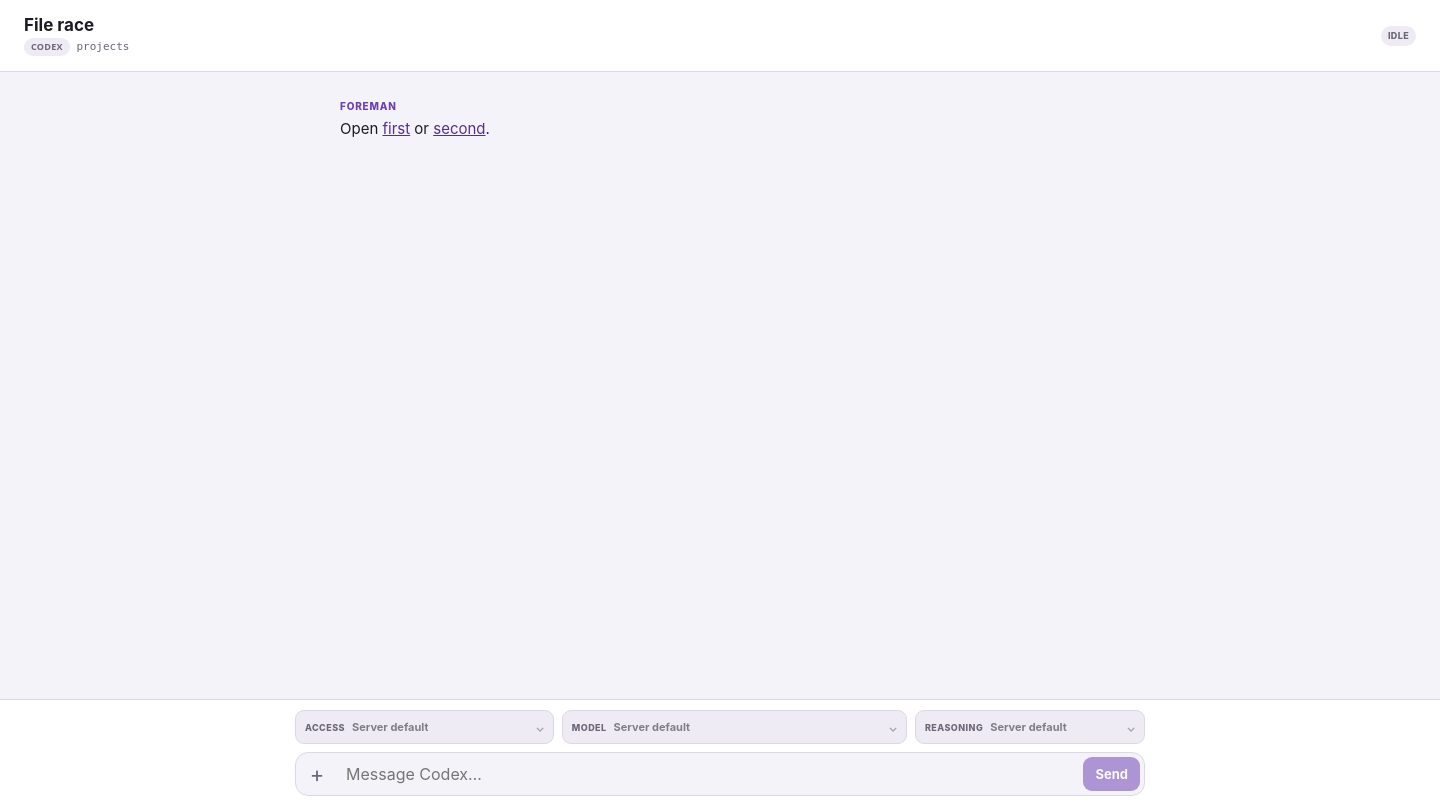
Test: assistant workspace file links › keeps the newest file when reads complete out of order
The width and height of the screenshot is (1440, 810).
Click the link "first": (396, 129) [382,119,410,138]
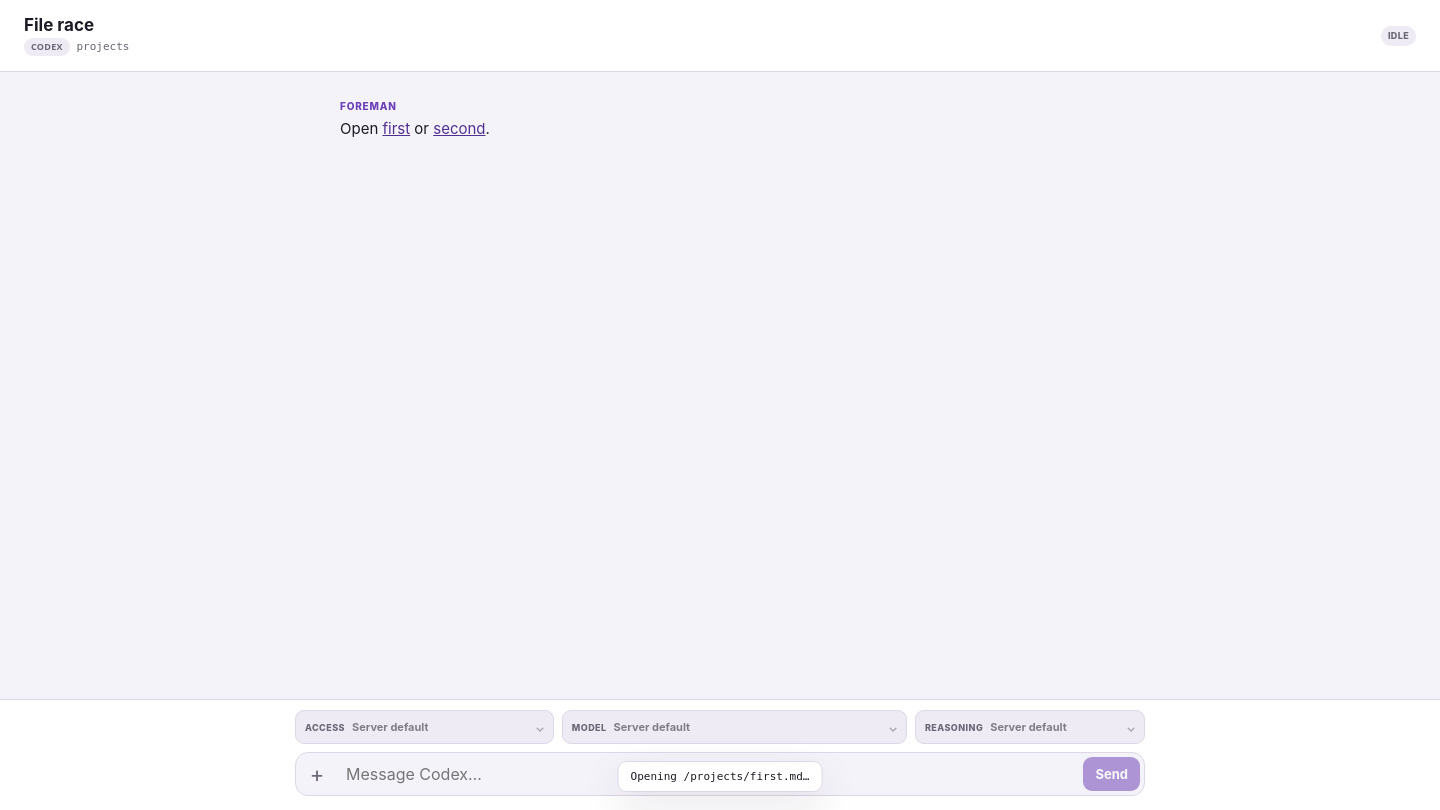
Click the link "second": (459, 129) [433,119,486,138]
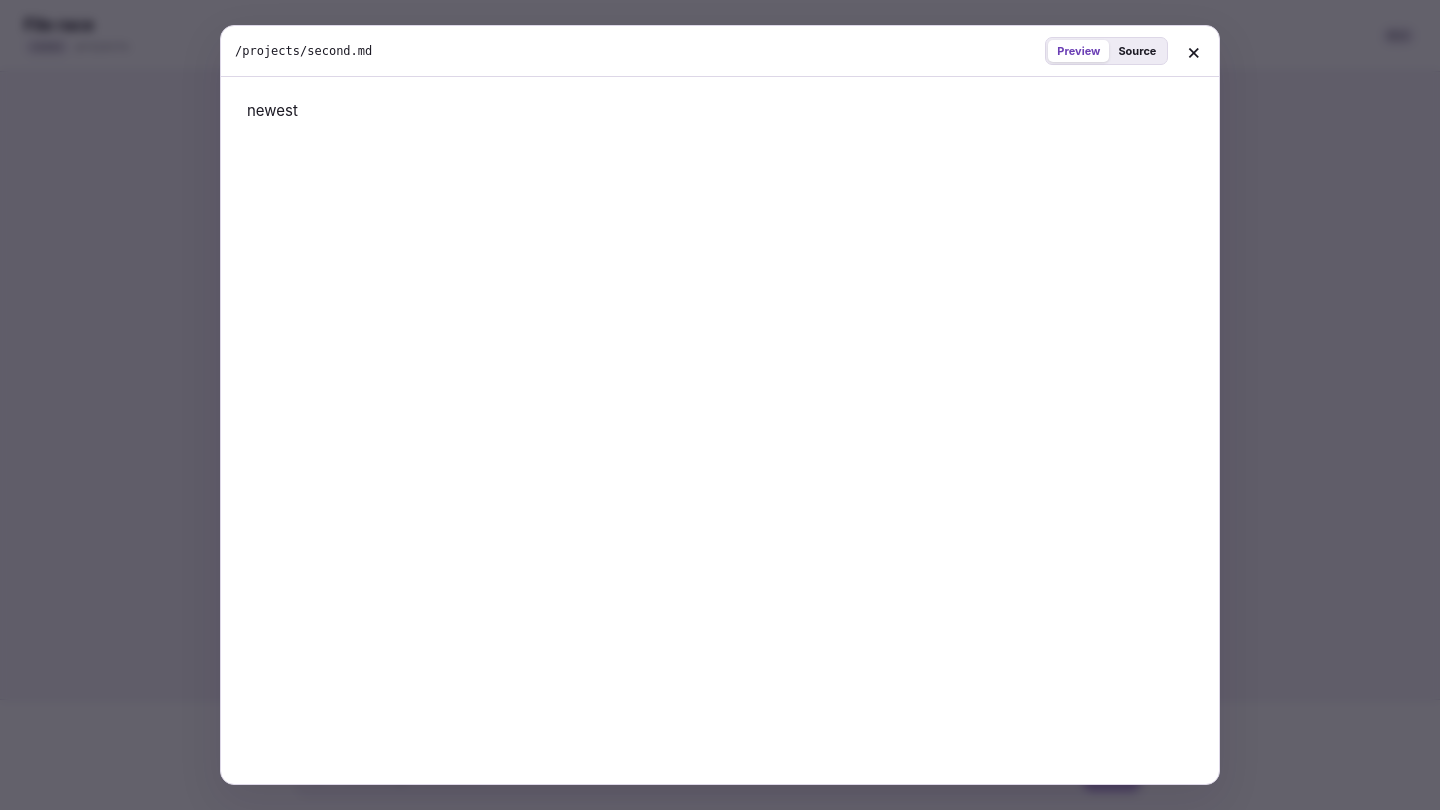
Now the message "Opening" is gone
Now the dialog named "Workspace file /projects/second.md" is shown
Now the text "newest" is shown, box [247,101,298,120]
